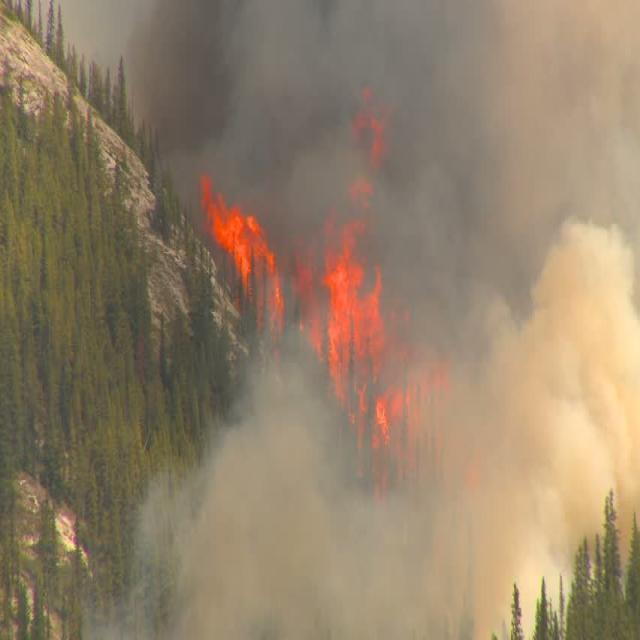Fire: (192, 131, 442, 542)
Smoke: (102, 0, 640, 640)
